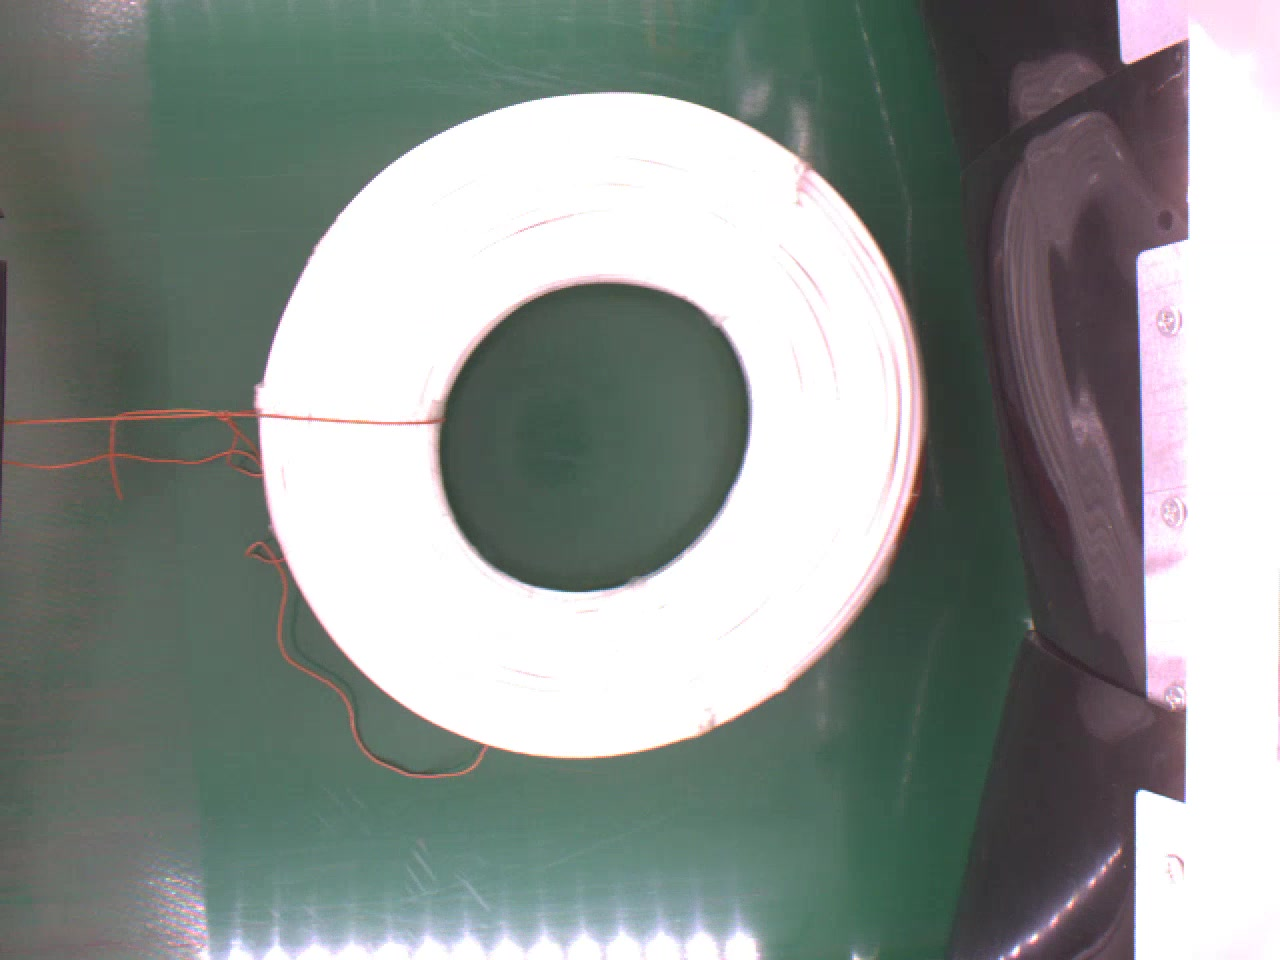white: (258, 90, 940, 755)
